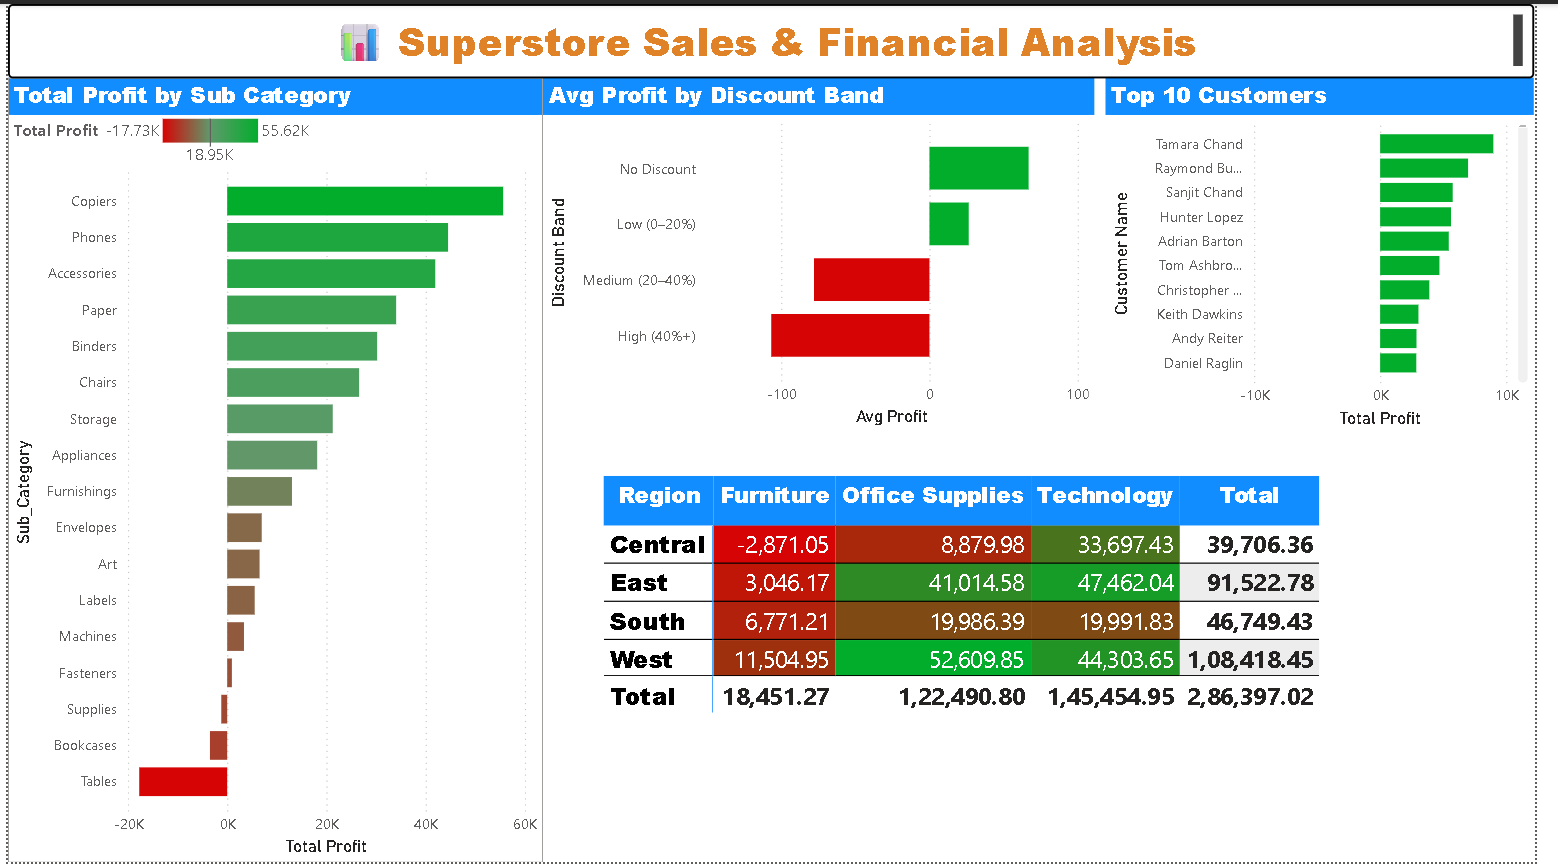

What the dashboard file says about the page in this screenshot:
{"tool":"powerbi","page":{"name":"Page 2","canvas":[1280,720],"ordinal":1},"visuals":[{"type":"barChart","title":"Total Profit by Sub Category","fields":{"Y":["Sample - Superstore.Total Profit"],"Category":["Sample - Superstore.Sub_Category"]},"box":[0,62,448.7,657.9],"z":0},{"type":"barChart","fields":{"Category":["Sample - Superstore.Discount Band"],"Y":["Sample - Superstore.Avg Profit"]},"box":[448.2,62.3,462.6,297.2],"z":1000},{"type":"pivotTable","fields":{"Columns":["Sample - Superstore.Category"],"Rows":["Sample - Superstore.Region"],"Values":["Sample - Superstore.Total Profit"]},"box":[495,390.7,640,221.7],"z":2000},{"type":"barChart","title":"Top 10 Customers","fields":{"Category":["Sample - Superstore.Customer Name"],"Y":["Sample - Superstore.Total Profit"]},"box":[920.5,62,359.2,298.7],"z":3000},{"type":"textbox","box":[0,0,1280,62.3],"z":4000}]}

Visuals, with their boxes in screenshot pixels (x1, y1, x2, y2), scaled from the page's 1280x720 canvas onto the 1558x868 screenshot:
"Total Profit by Sub Category" barChart: <bbox>0, 75, 546, 867</bbox>
barChart - Sample - Superstore.Discount Band x Sample - Superstore.Avg Profit: <bbox>546, 75, 1109, 433</bbox>
pivotTable - Sample - Superstore.Category x Sample - Superstore.Region: <bbox>603, 471, 1382, 738</bbox>
"Top 10 Customers" barChart: <bbox>1120, 75, 1557, 435</bbox>
textbox: <bbox>0, 0, 1557, 75</bbox>
